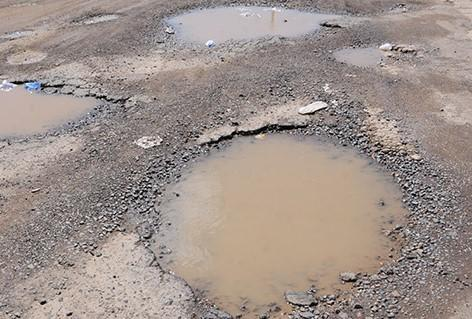pothole: (141, 112, 420, 319), (159, 0, 352, 55), (0, 76, 131, 143), (334, 41, 386, 67), (74, 7, 131, 29)
